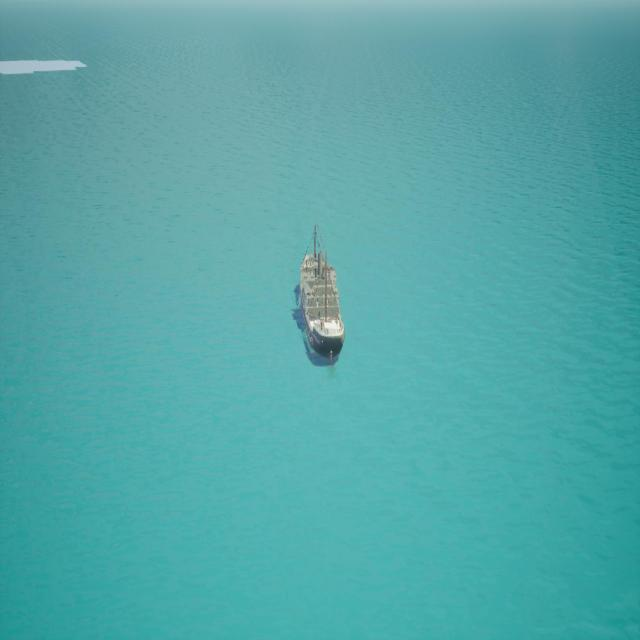fishing ship: (297, 226, 347, 369)
